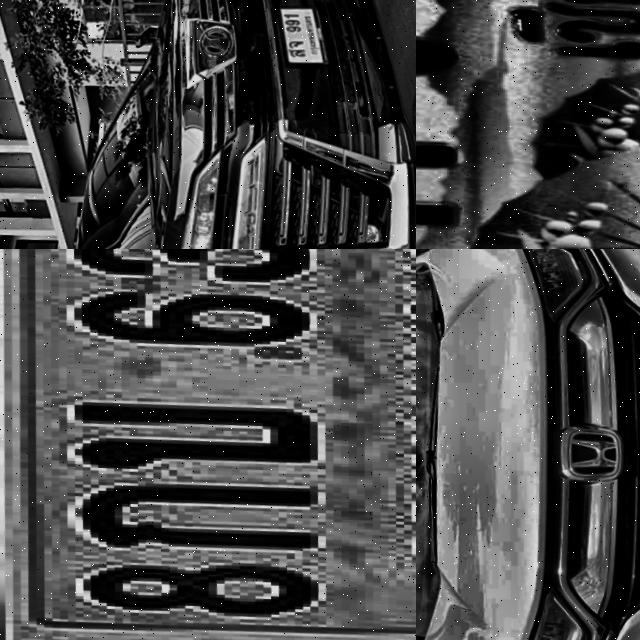license-plate: (0, 249, 416, 640), (416, 0, 640, 249), (268, 5, 327, 70)
